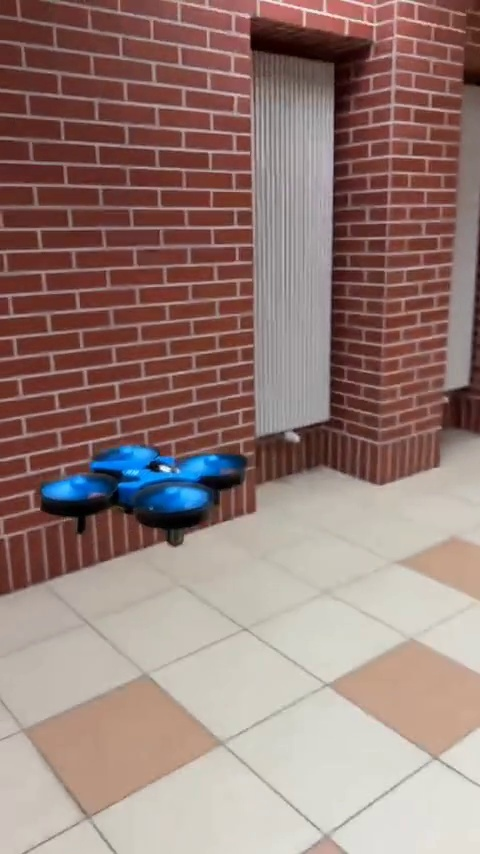drone: (38, 445, 240, 544)
